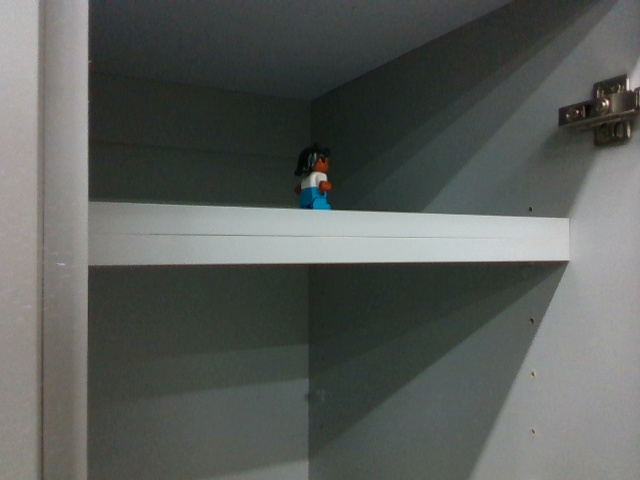people: (292, 143, 336, 213)
